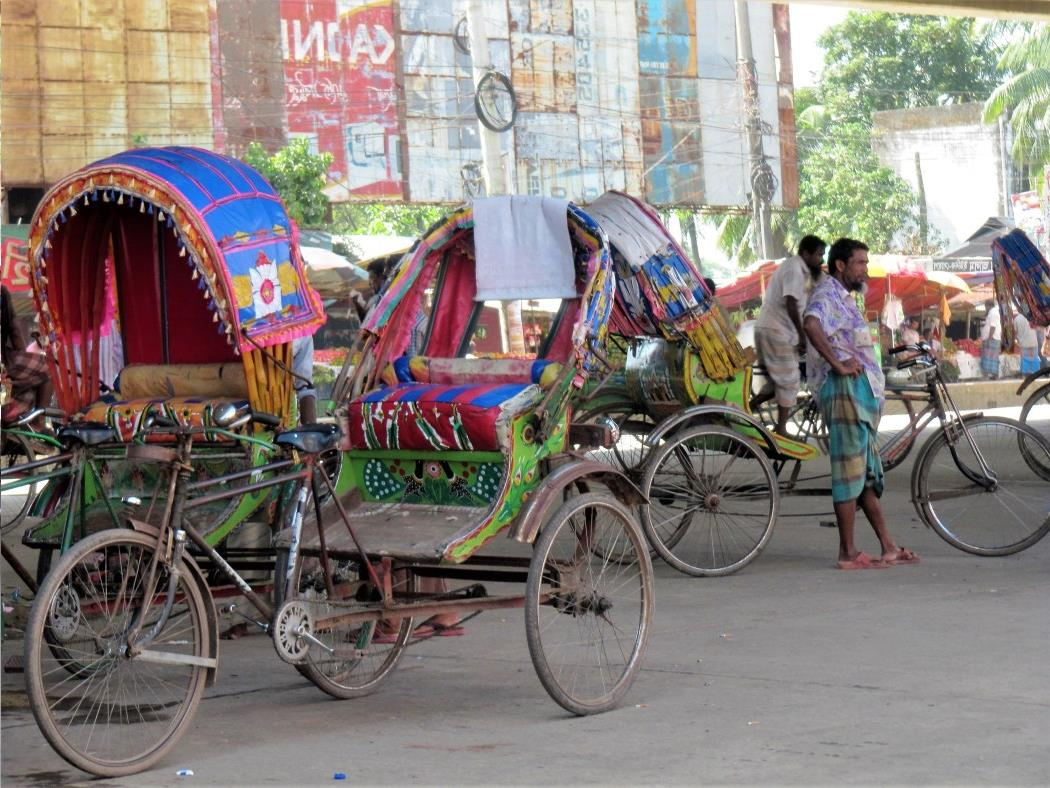Rickshaw: (303, 190, 654, 736), (565, 172, 1042, 563), (9, 138, 335, 695), (981, 211, 1046, 504)
